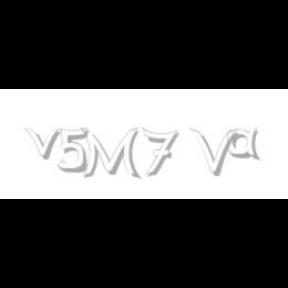5: (57, 128, 88, 174)
7: (142, 128, 180, 178)
M: (80, 128, 140, 180)
V: (190, 128, 238, 176)
a: (228, 128, 264, 160)
v: (24, 128, 64, 160)
